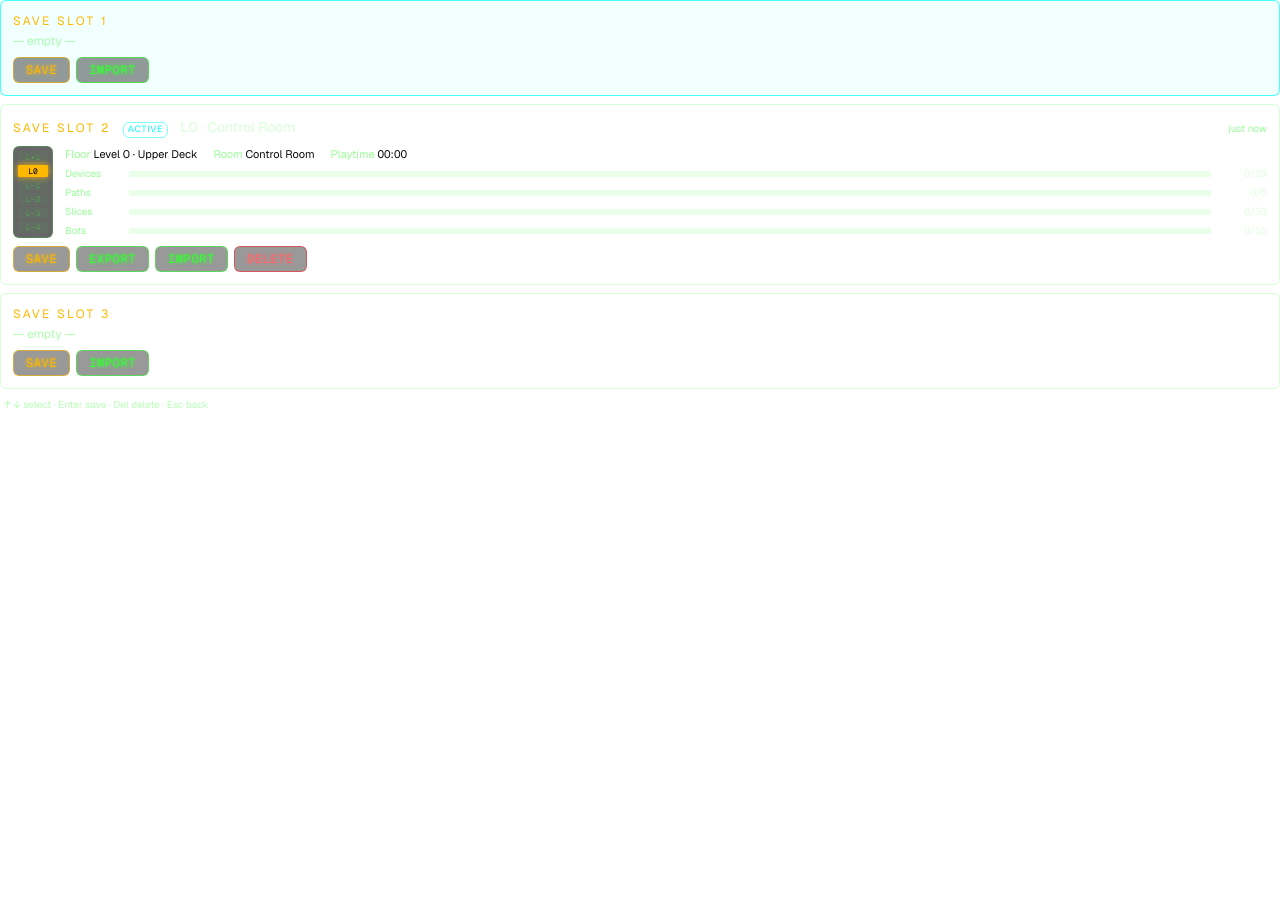
Test: SlotList details › always confirms delete, even with confirmations off
This screenshot has width=1280, height=900.
Click the button "Delete": (270, 259) [234,246,307,272]
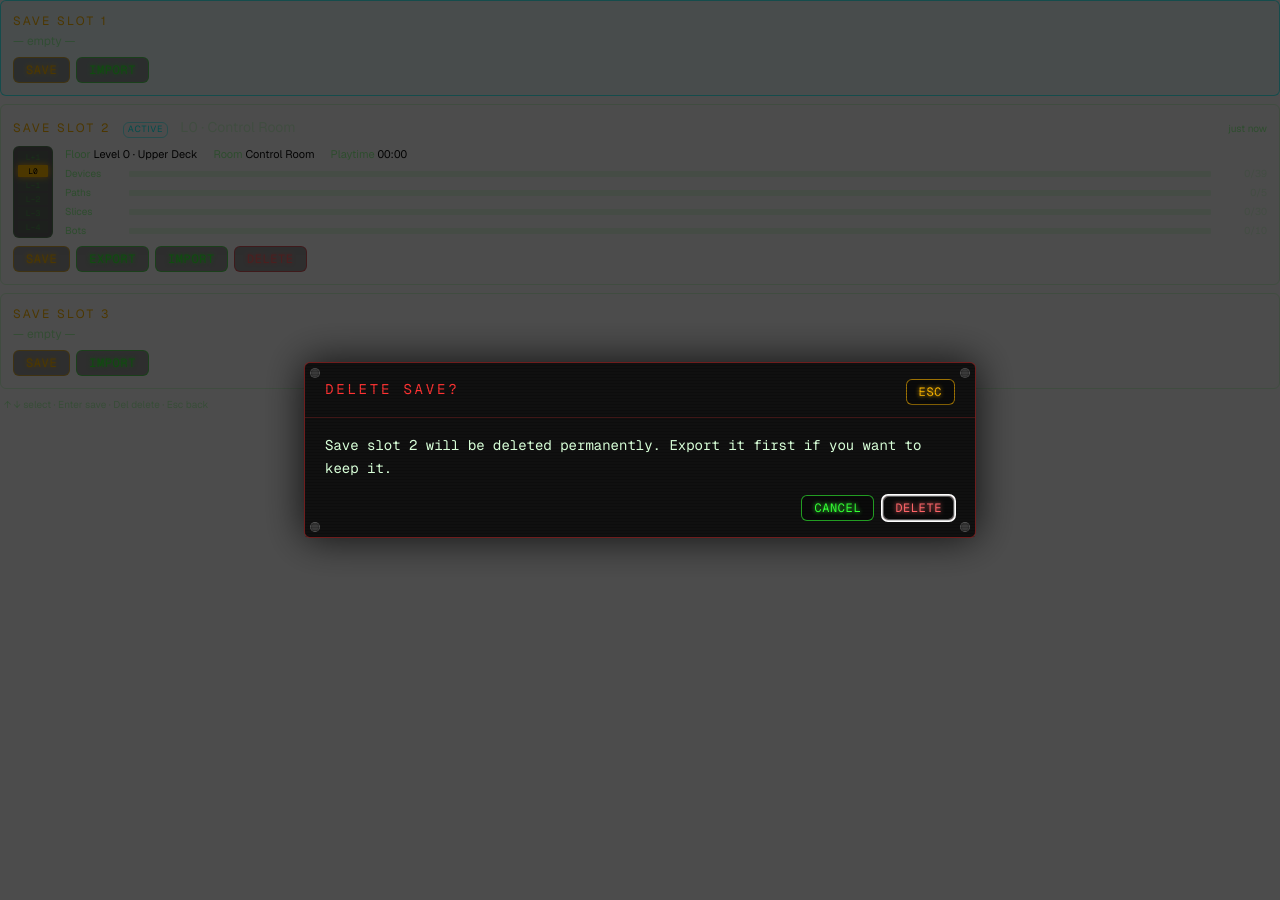
Expected: the dialog "Delete save?" is shown
